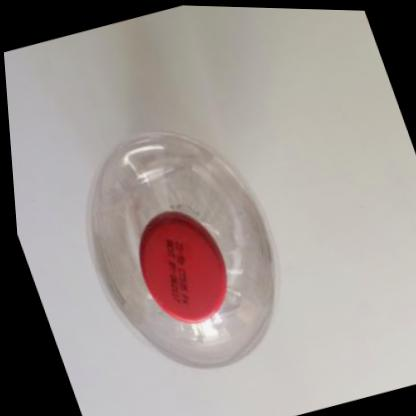Plastic: (82, 129, 272, 366)
